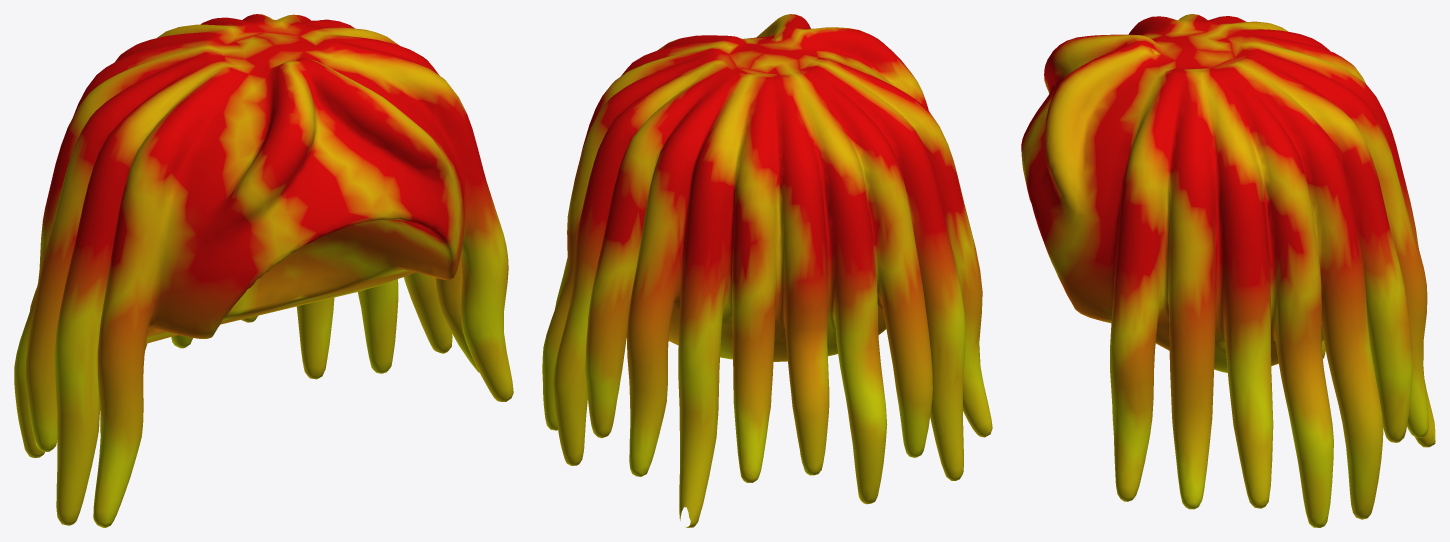
The model's file is shag.glb.
3 renders of one model, left to right at view 1: azimuth 30°, elevation 25°; view 2: azimuth 150°, elevation 25°; view 3: azimuth 270°, elevation 25°, orthographic. The views are drawn at different scales.
Visible parts, largest first — view 1: part; view 2: part; view 3: part.
Boxes of the visible parts, x1,y1,x2,y2 form: part: [14, 14, 513, 527]; part: [542, 14, 992, 527]; part: [1021, 14, 1435, 527].
Size of the model in its own units: 2.84 by 2.73 by 2.43.
